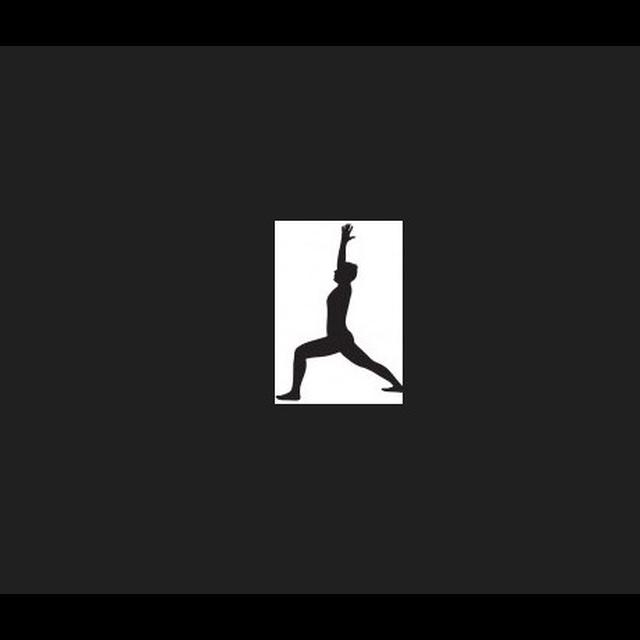Warrior_I: (274, 219, 400, 407)
